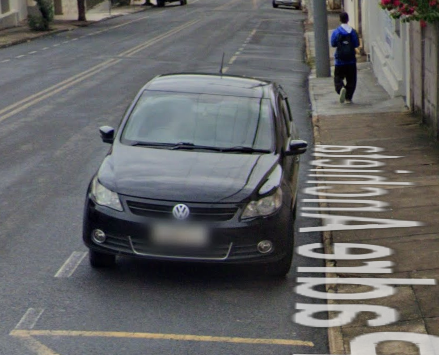car: (78, 49, 311, 282)
